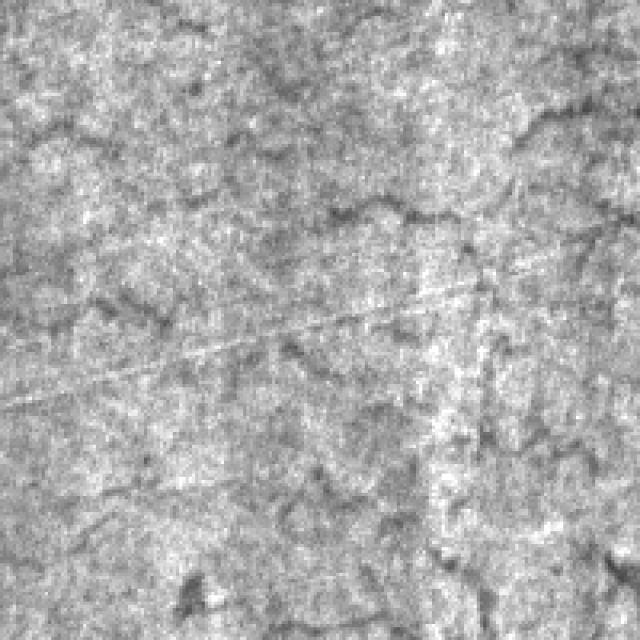crazing: (54, 394, 596, 611), (176, 67, 634, 323), (6, 186, 512, 380)
